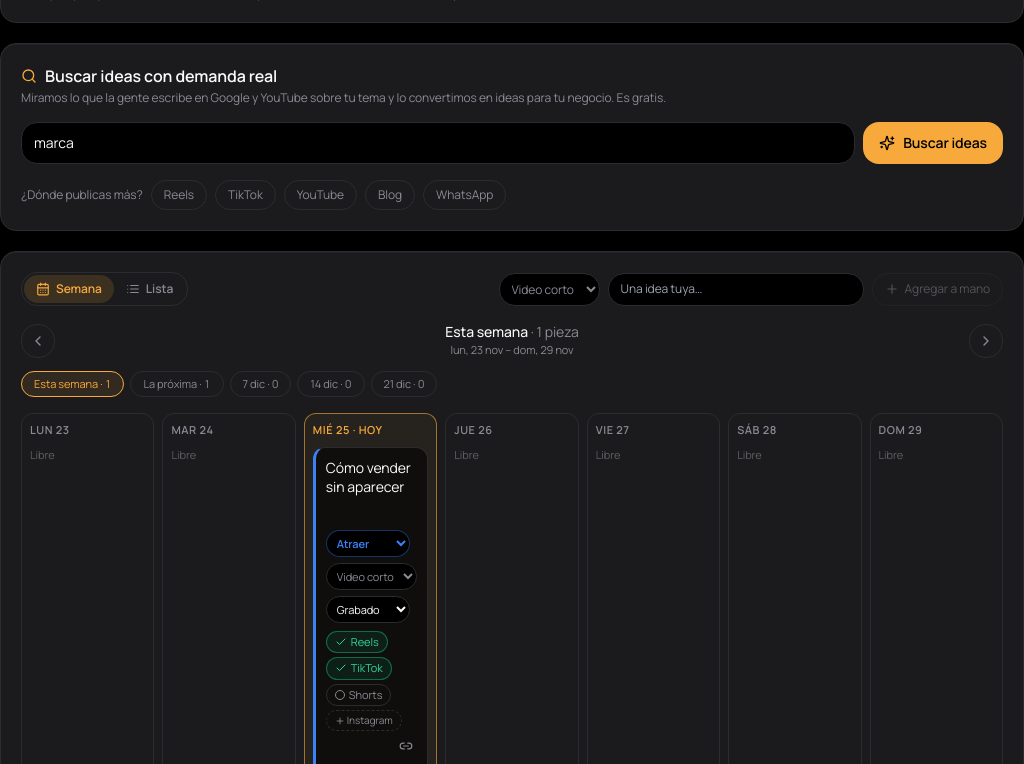
ContentPage · tracker de publicaciones › se navega a la próxima semana y se ve lo agendado ahí
(page scrolled)
Check: the field showing "Rutina de 10 minutos sin equipo" is not shown
Click the tab "La próxima · 1": [177, 384] box [130,371,224,397]
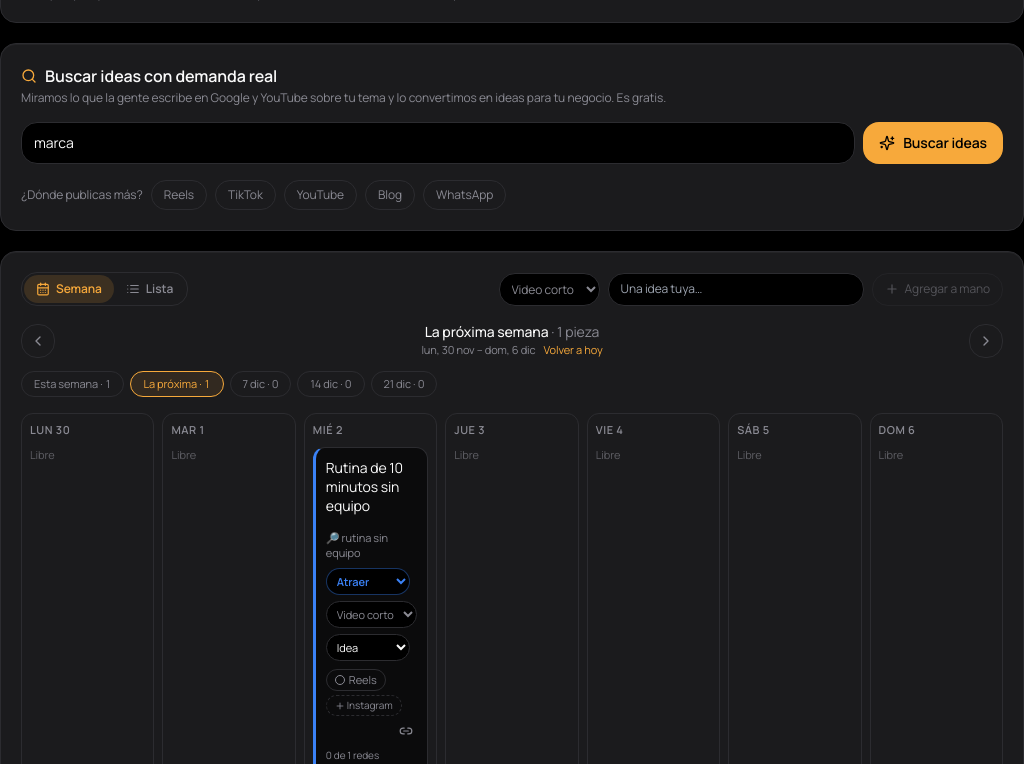
Check: the text box showing "Rutina de 10 minutos sin equipo" is shown, box [326,458,417,516]
